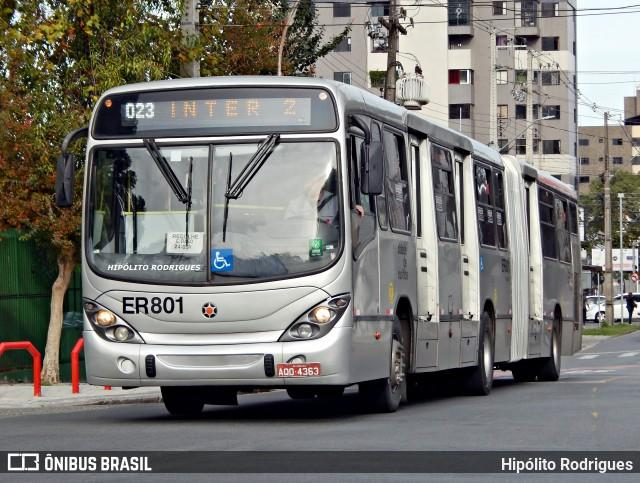INTER2: (165, 94, 303, 121)
